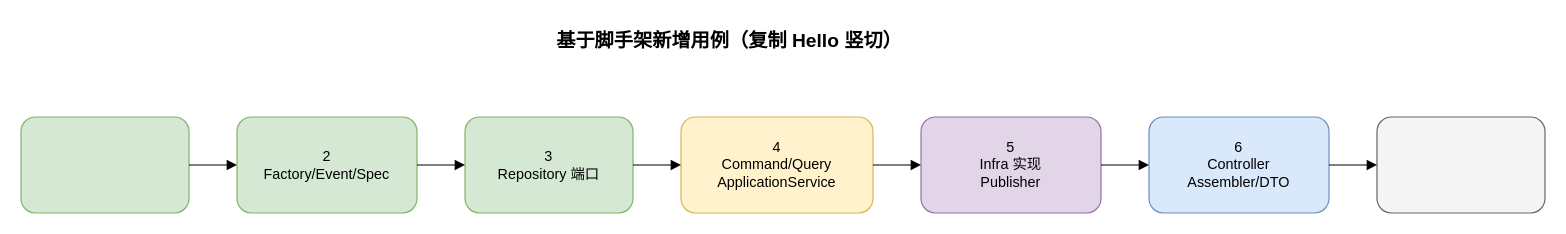
Some shapes in this 1566 by 234 pixel diagram are drawn without their labels. The centre of each missing label's shape, as x and y in pixels:
"1 领域模型 model" goes at point 104,164.
"7 扫描包 联调验证" goes at point 1460,164.
